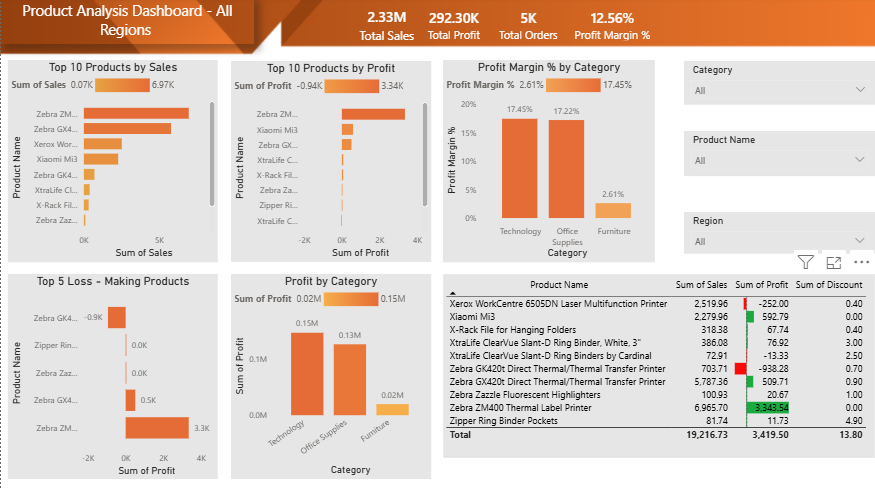

What the dashboard file says about the page in this screenshot:
{"tool":"powerbi","page":{"name":"Page 2","canvas":[1280,720],"ordinal":1},"visuals":[{"type":"barChart","title":" Top 10 Products by Sales","fields":{"Category":["samplesuperstore.Product Name"],"Y":["Sum(samplesuperstore.Sales)"]},"box":[10.2,92.2,307.3,295.6],"z":0},{"type":"barChart","title":"Top 10 Products by Profit ","fields":{"Category":["samplesuperstore.Product Name"],"Y":["Sum(samplesuperstore.Profit)"]},"box":[336.6,93.7,292.7,294.1],"z":1000},{"type":"barChart","title":" Top 5 Loss - Making Products","fields":{"Category":["samplesuperstore.Product Name"],"Y":["Sum(samplesuperstore.Profit)"]},"box":[10.2,405.4,307.3,300],"z":2000},{"type":"clusteredColumnChart","title":"Profit by Category","fields":{"Category":["samplesuperstore.Category"],"Y":["Sum(samplesuperstore.Profit)"]},"box":[336.6,405.4,292.7,300],"z":3000},{"type":"clusteredColumnChart","fields":{"Category":["samplesuperstore.Category"],"Y":["samplesuperstore.Profit Margin %"]},"box":[646.8,92.2,310.2,295.6],"z":4000},{"type":"textbox","box":[0,0,370,68.6],"z":5000},{"type":"slicer","fields":{"Values":["samplesuperstore.Category"]},"box":[999.5,93.7,281,64.4],"z":6000},{"type":"slicer","fields":{"Values":["samplesuperstore.Product Name"]},"box":[1000,195.7,280,65.7],"z":7000},{"type":"slicer","fields":{"Values":["samplesuperstore.Region"]},"box":[1000,314.3,280,61.4],"z":8000},{"type":"tableEx","fields":{"Values":["samplesuperstore.Product Name","Sum(samplesuperstore.Sales)","Sum(samplesuperstore.Profit)","Sum(samplesuperstore.Discount)"]},"box":[646.8,405.4,632.2,269.3],"z":9000},{"type":"cardVisual","fields":{"Data":["samplesuperstore.Total Sales"]},"box":[500.5,11.7,128.8,57.1],"z":12000},{"type":"cardVisual","fields":{"Data":["samplesuperstore.Total Profit"]},"box":[594.1,11.7,137.6,57.1],"z":13000},{"type":"cardVisual","fields":{"Data":["samplesuperstore.Total Orders"]},"box":[711.2,11.7,121.5,57.1],"z":14000},{"type":"cardVisual","fields":{"Data":["samplesuperstore.Profit Margin %"]},"box":[832.7,11.7,124.4,57.1],"z":15000}]}

Visuals, with their boxes in screenshot pixels (x1, y1, x2, y2), scaled from the page's 1280x720 canvas onto the 875x488 screenshot:
" Top 10 Products by Sales" barChart: 7,62,217,263
"Top 10 Products by Profit " barChart: 230,64,430,263
" Top 5 Loss - Making Products" barChart: 7,275,217,478
"Profit by Category" clusteredColumnChart: 230,275,430,478
clusteredColumnChart - samplesuperstore.Category x samplesuperstore.Profit Margin %: 442,62,654,263
textbox: 0,0,253,46
slicer - samplesuperstore.Category: 683,64,874,107
slicer - samplesuperstore.Product Name: 684,133,874,177
slicer - samplesuperstore.Region: 684,213,874,255
tableEx - samplesuperstore.Product Name x Sum(samplesuperstore.Sales): 442,275,874,457
cardVisual - samplesuperstore.Total Sales: 342,8,430,47
cardVisual - samplesuperstore.Total Profit: 406,8,500,47
cardVisual - samplesuperstore.Total Orders: 486,8,569,47
cardVisual - samplesuperstore.Profit Margin %: 569,8,654,47
